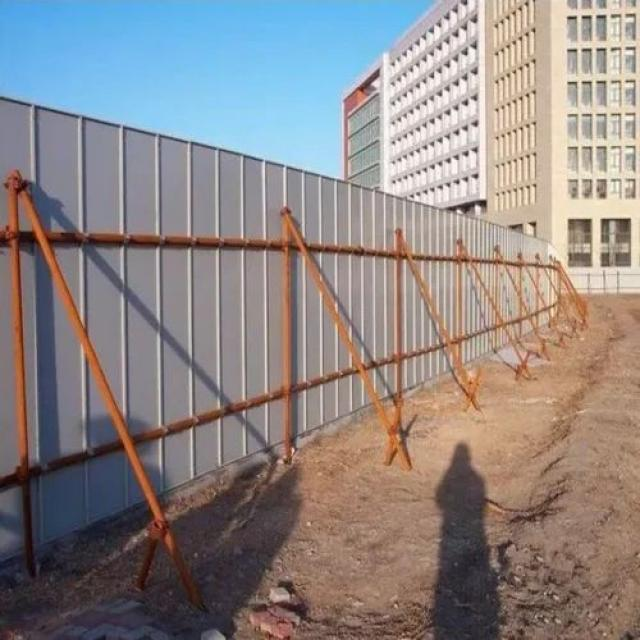cone: (0, 71, 583, 640)
